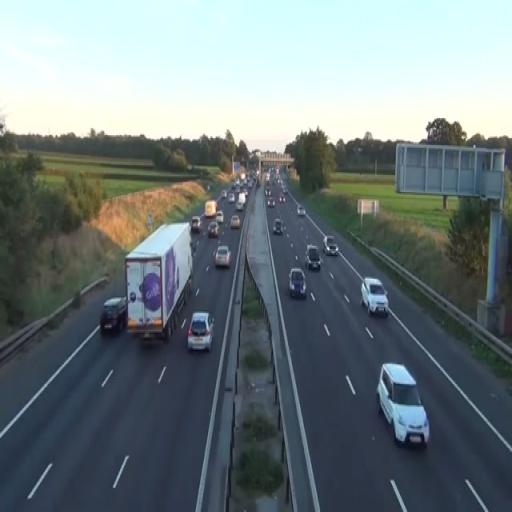Car: (376, 362, 430, 449), (360, 276, 389, 318), (187, 311, 215, 352), (100, 296, 128, 336), (288, 268, 306, 299), (305, 244, 321, 272), (214, 245, 232, 268), (322, 235, 339, 257), (273, 218, 283, 236), (208, 221, 218, 238), (230, 215, 240, 229)
Truck: (124, 221, 194, 342)
